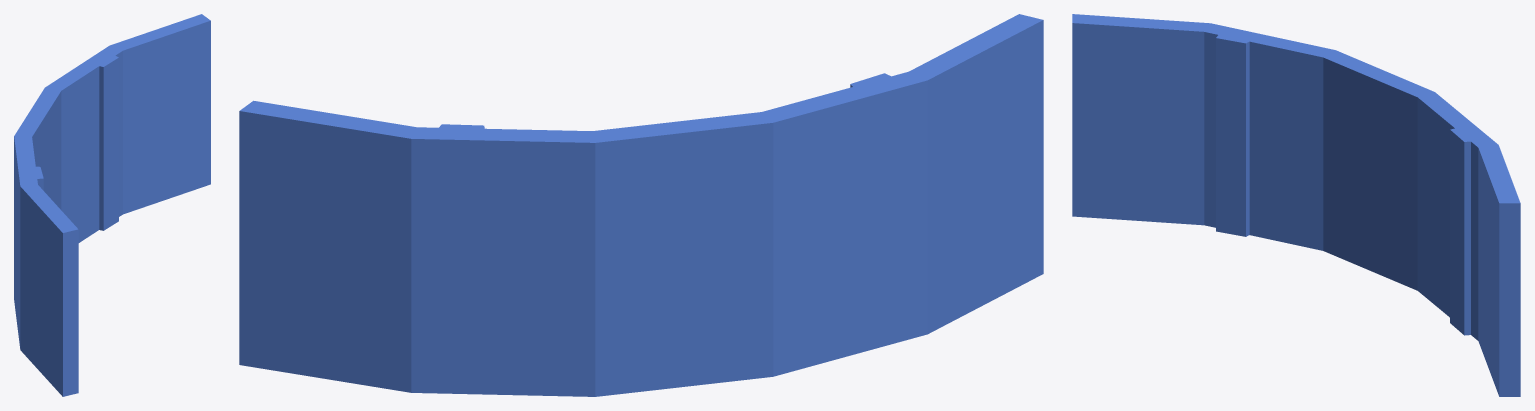
File: TopAstra_Corner_Round_Inner_Collision.fbx
3 views of the same model, side by side, from view 1: azimuth 30°, elevation 25°; view 2: azimuth 150°, elevation 25°; view 3: azimuth 270°, elevation 25° (orthographic). The views are drawn at different scales.
Parts seen in each view (by area): view 1: TopAstra_Corner_Round_Inner_Collision; view 2: TopAstra_Corner_Round_Inner_Collision; view 3: TopAstra_Corner_Round_Inner_Collision.
Boxes of the visible parts, <box> form: TopAstra_Corner_Round_Inner_Collision: <box>14,14,210,396</box>; TopAstra_Corner_Round_Inner_Collision: <box>239,14,1043,396</box>; TopAstra_Corner_Round_Inner_Collision: <box>1072,14,1520,396</box>.
Size of the model in its own units: 420 by 200 by 420.
